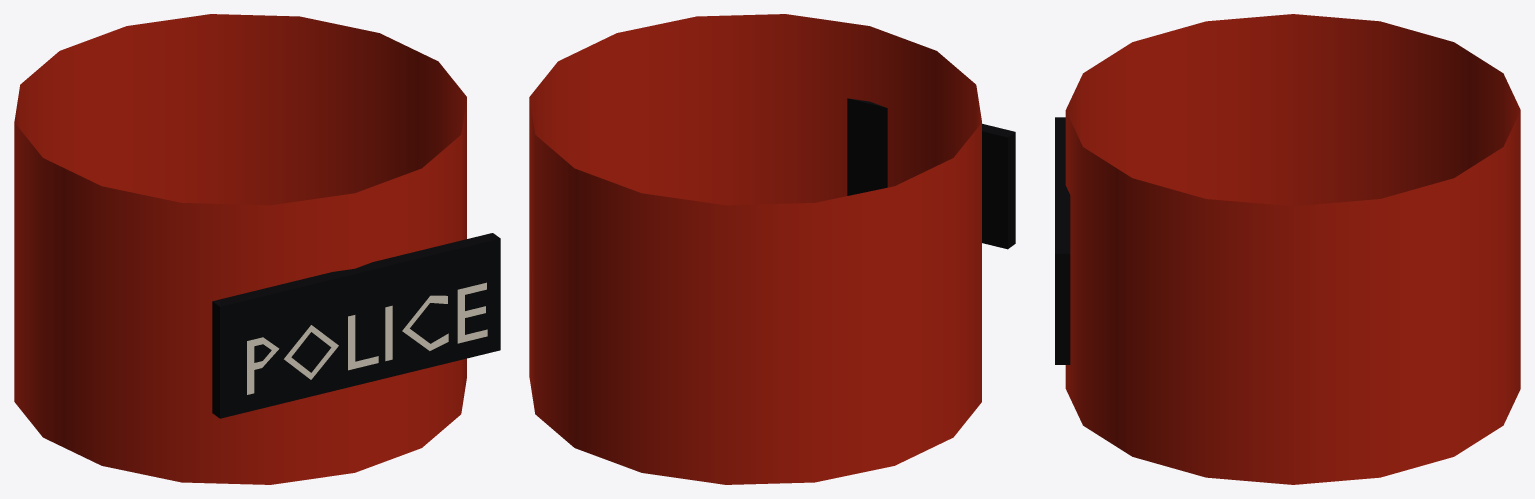
The model's file is bac-armband.glb.
The picture shows the model from 3 angles, left to right: view 1: azimuth 30°, elevation 25°; view 2: azimuth 150°, elevation 25°; view 3: azimuth 270°, elevation 25°; orthographic projection.
Visible parts, largest first — view 1: bac-armband; view 2: bac-armband; view 3: bac-armband.
Part boxes in pixels (x1,y1,x2,y2): bac-armband: (14,14,500,484); bac-armband: (529,14,1015,484); bac-armband: (1055,14,1520,484).
Size of the model in its own units: 0.148 by 0.1 by 0.155.
1 material, 1 textured.
